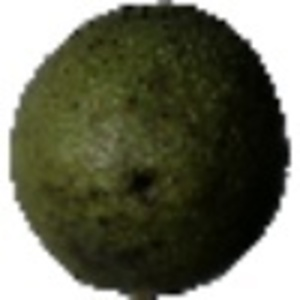abacate: (8, 1, 297, 296)
